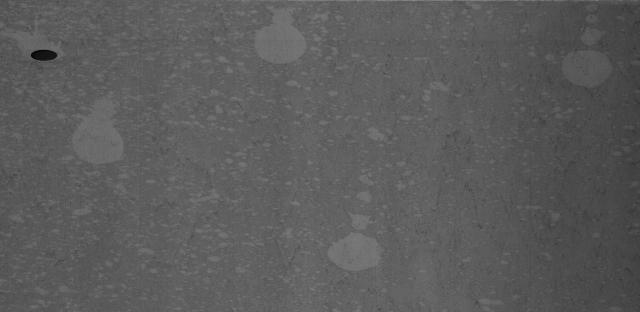punching_hole: (27, 47, 60, 63)
